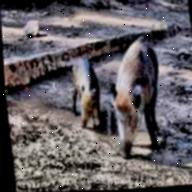boar: (101, 42, 171, 163), (50, 43, 113, 136)
